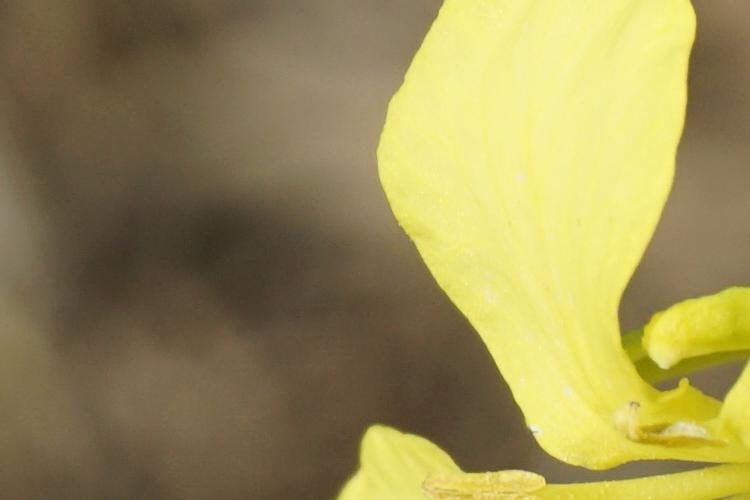yellow: (368, 18, 740, 498)
